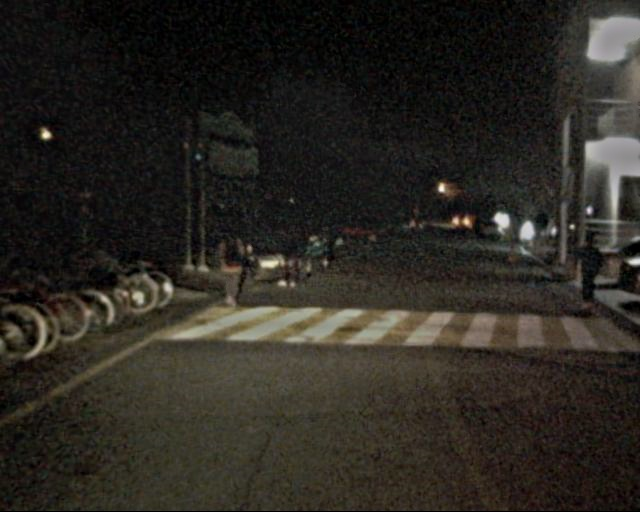person: (213, 224, 251, 312), (570, 232, 606, 315), (276, 222, 304, 293)
